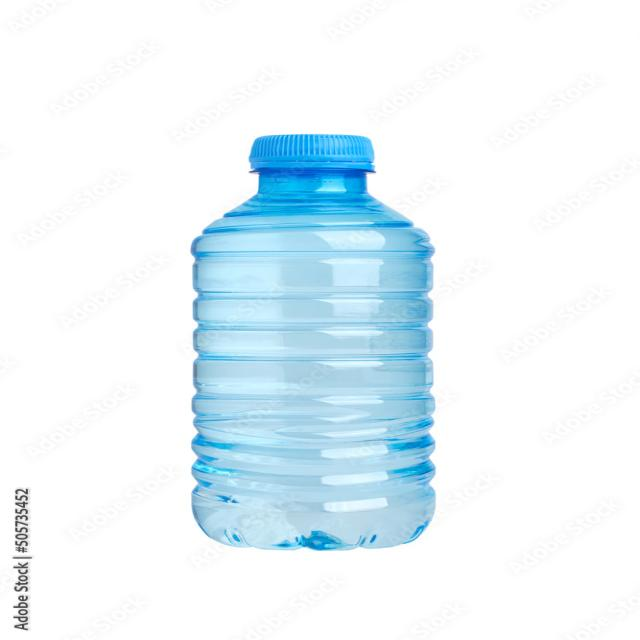bottle: (185, 131, 438, 556)
